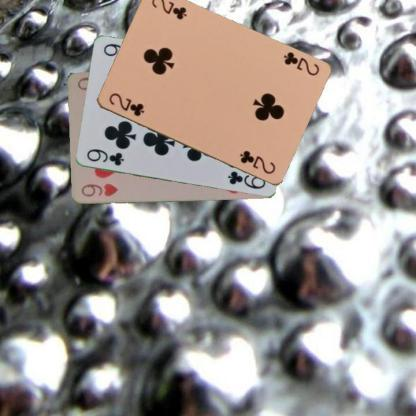2c: (280, 49, 320, 78), (106, 90, 146, 118)
9c: (84, 146, 125, 168)
9h: (78, 181, 119, 198)
